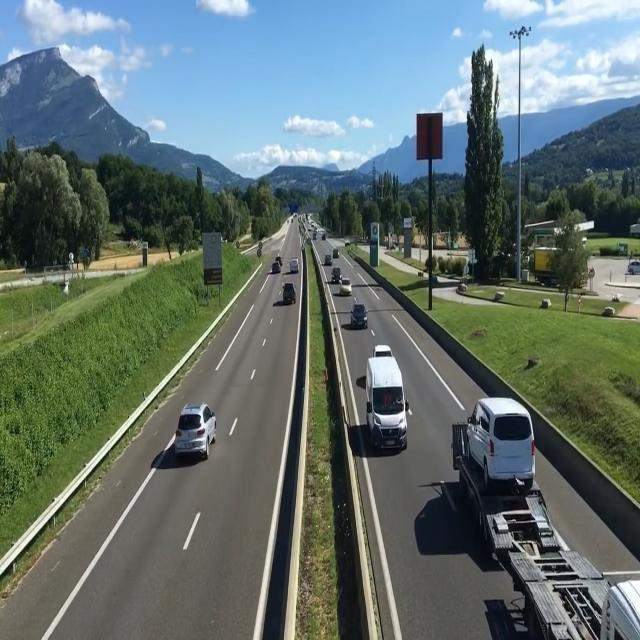Car: (172, 400, 220, 463), (348, 302, 369, 331), (282, 282, 296, 305), (373, 344, 393, 358), (339, 277, 352, 296), (331, 266, 342, 284), (626, 260, 640, 274), (288, 257, 299, 273), (272, 262, 281, 274), (324, 254, 332, 265), (275, 256, 283, 266), (333, 248, 339, 258)
Truck: (445, 393, 640, 640)
Van: (460, 397, 536, 491), (364, 356, 412, 453)
